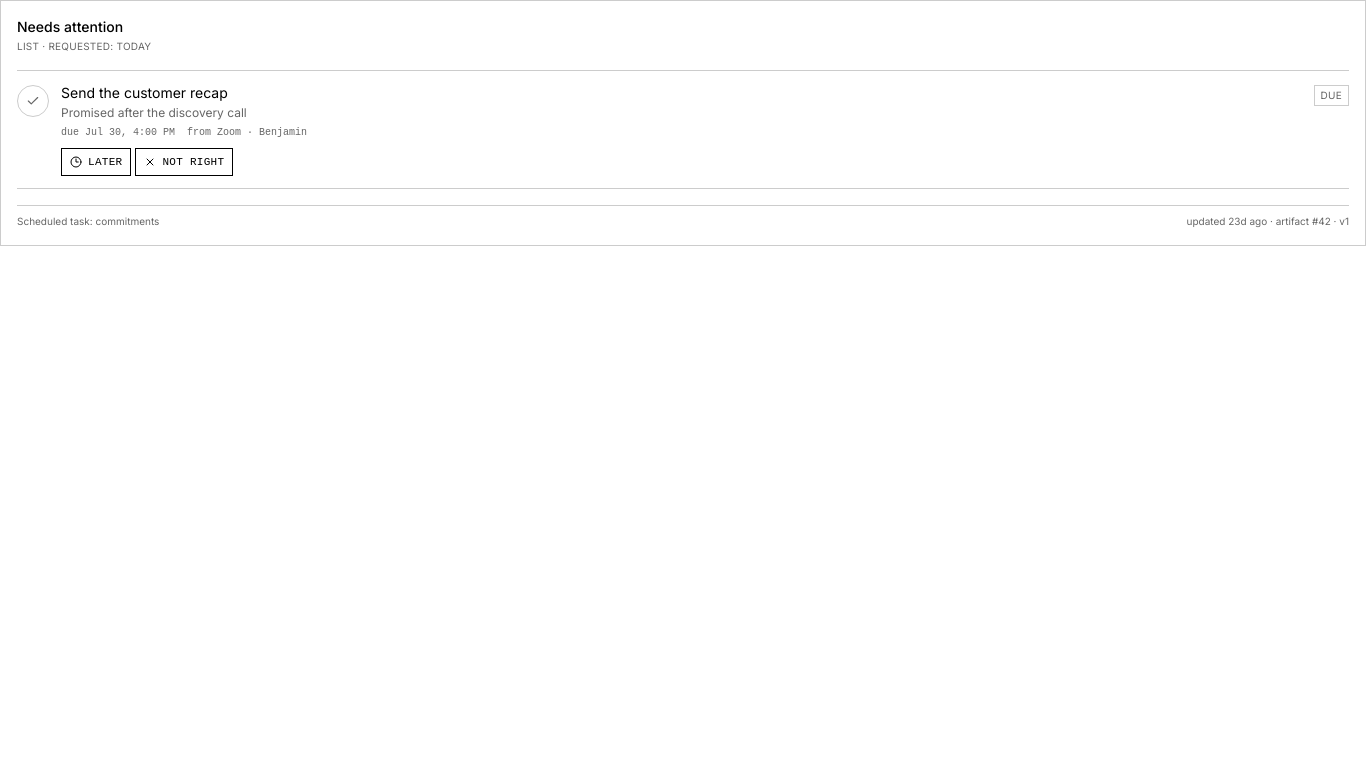
it: Live View interactive list decisions › offers bounded Later choices and keeps the due time explicit
This screenshot has width=1366, height=768.
Later steps or results of the test are not shown.
Step 1. Click the button with aria-label "snooze Send the customer recap" → (96, 162), box [61, 148, 131, 176]
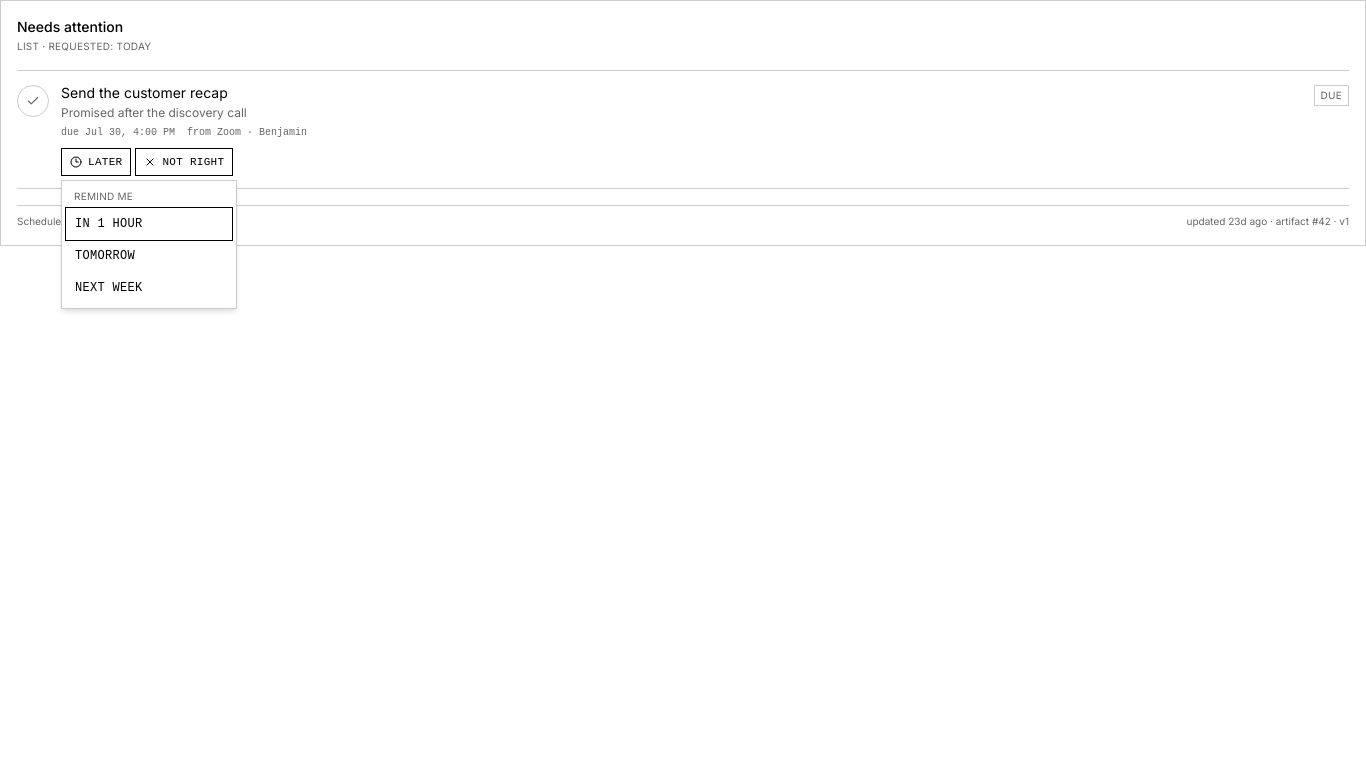
Result: the text "Remind me" is shown at [74, 190, 133, 202]
Result: the button "In 1 hour" is shown at [66, 208, 232, 240]
Result: the button "Tomorrow" is shown at [66, 240, 232, 272]
